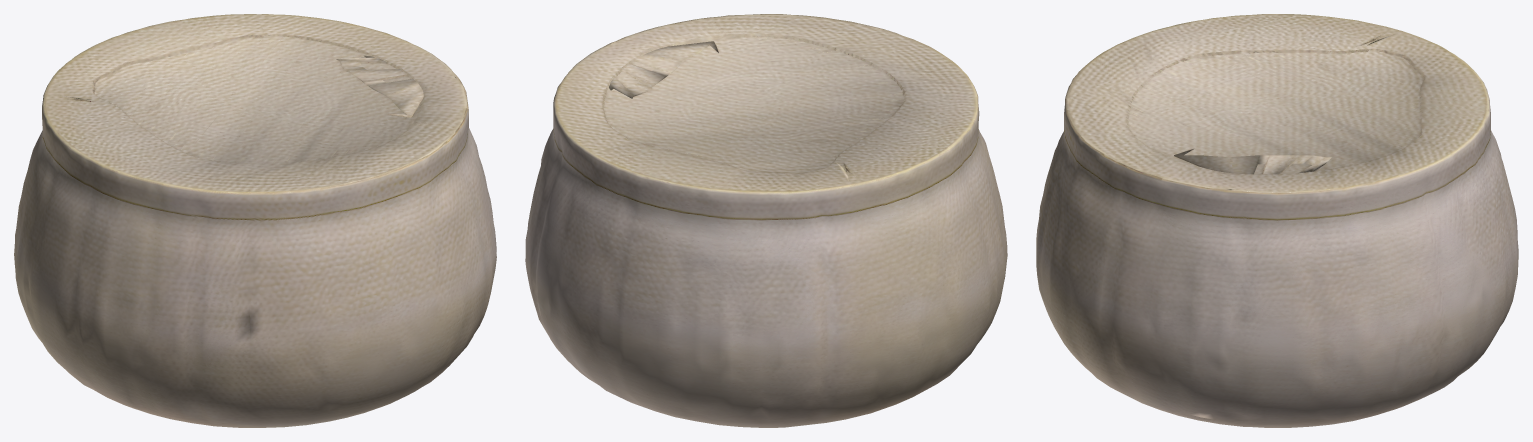
The model's file is gold_hammered_coffee_table_0428035848_texture.glb.
3 renders of one model, left to right at view 1: azimuth 30°, elevation 25°; view 2: azimuth 150°, elevation 25°; view 3: azimuth 270°, elevation 25°, orthographic.
Visible parts, largest first — view 1: Mesh_0.001; view 2: Mesh_0.001; view 3: Mesh_0.001.
Boxes of the visible parts, bbox=[...] form: Mesh_0.001: bbox=[14, 14, 496, 427]; Mesh_0.001: bbox=[525, 14, 1007, 427]; Mesh_0.001: bbox=[1036, 14, 1518, 427].
Bounding box in the file's own units: 0.7196 × 0.43 × 0.7196.
Materials: 1 (1 with a texture image).
